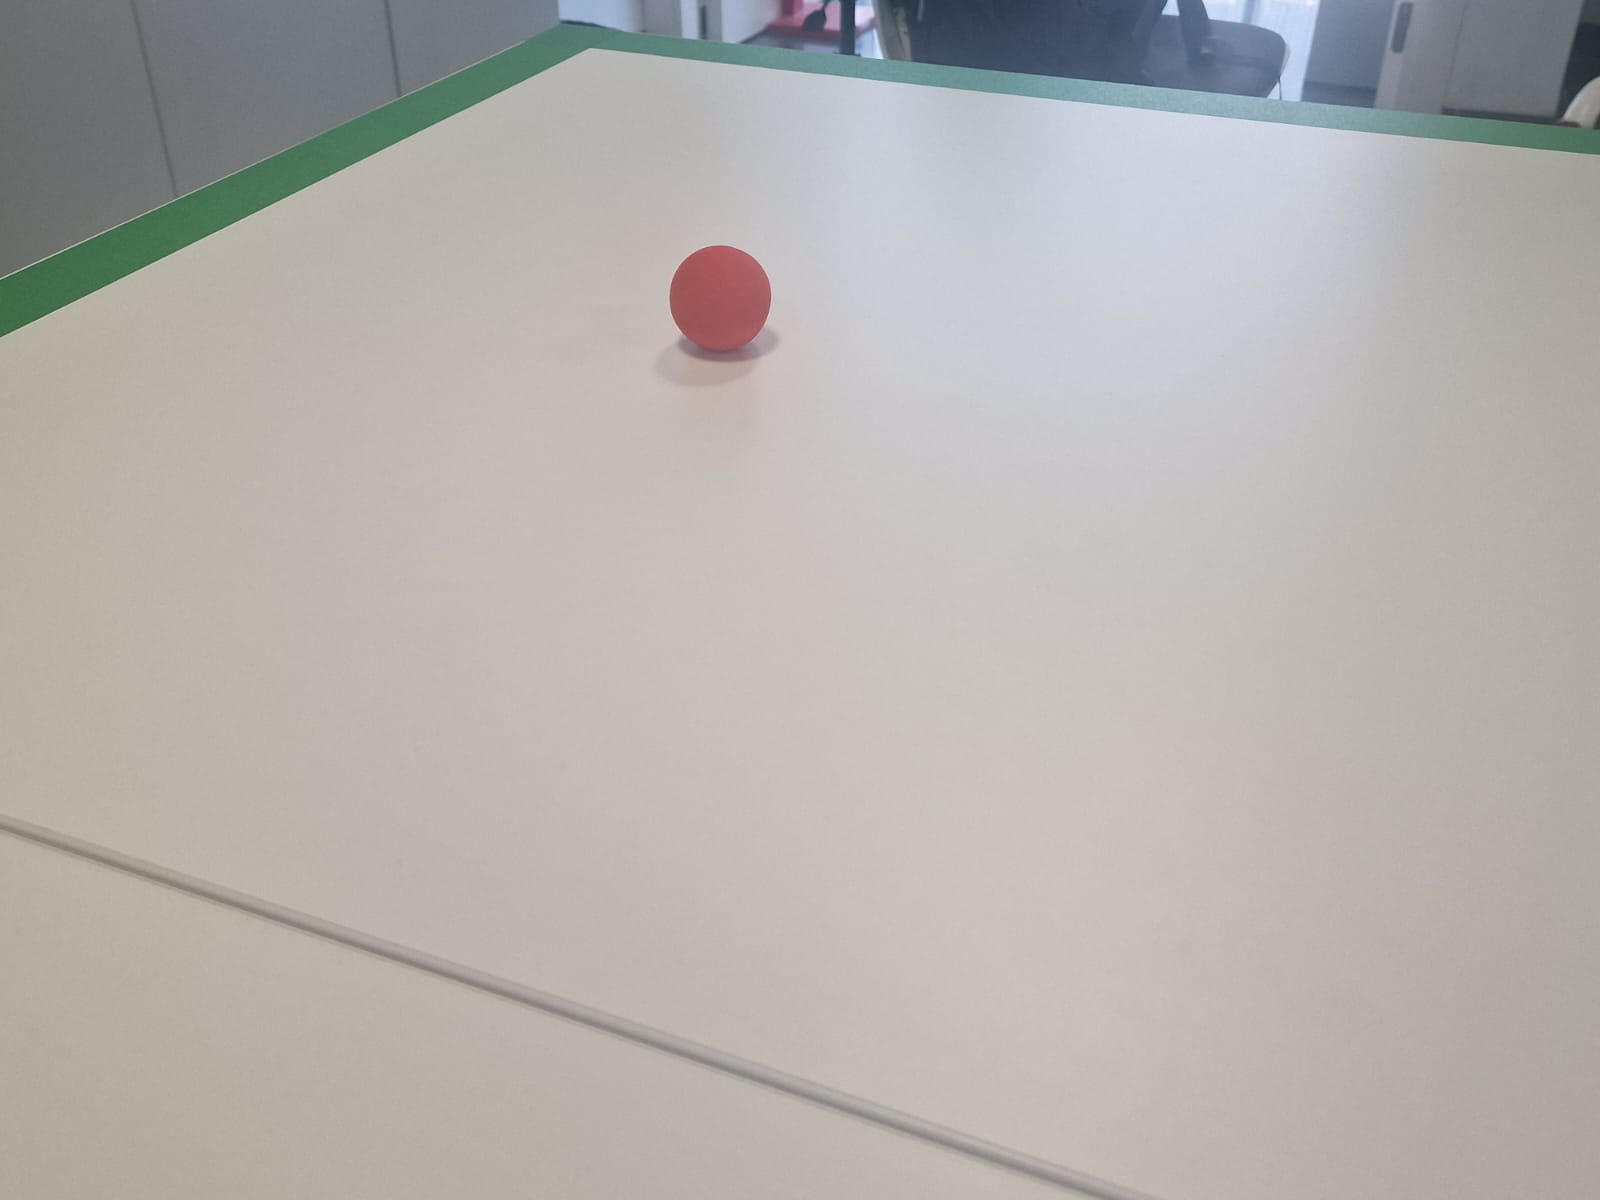bola_cerca: (671, 241, 772, 354)
